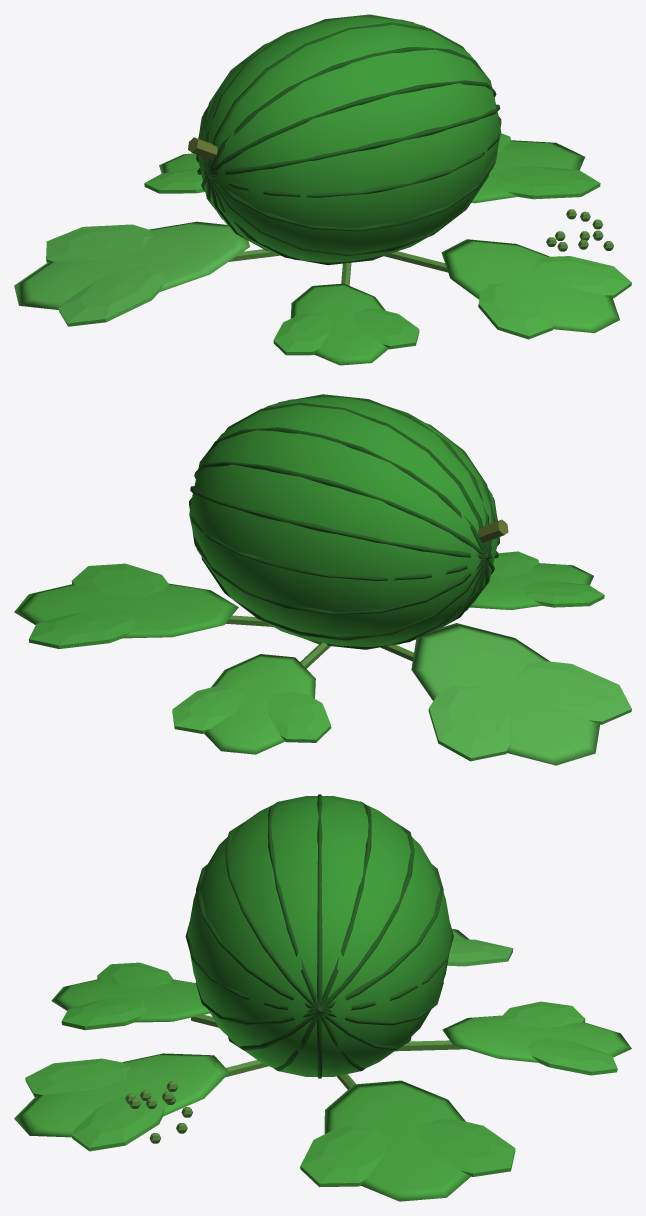
File: Planta_Watermelon.fbx
3 renders of one model, top to bottom at view 1: azimuth 30°, elevation 25°; view 2: azimuth 150°, elevation 25°; view 3: azimuth 270°, elevation 25°, orthographic. The views are drawn at different scales.
Visible parts, largest first — view 1: Produto_Watermelon, Corpo_Watermelon; view 2: Produto_Watermelon, Corpo_Watermelon; view 3: Produto_Watermelon, Corpo_Watermelon.
Part boxes in pixels (x1,y1,x2,y2): Produto_Watermelon: [196, 14, 501, 264]; Corpo_Watermelon: [14, 133, 631, 365]; Produto_Watermelon: [189, 394, 499, 649]; Corpo_Watermelon: [14, 519, 631, 765]; Produto_Watermelon: [185, 794, 453, 1078]; Corpo_Watermelon: [14, 929, 631, 1201].
Size of the model in its own units: 4.78 by 1.94 by 4.19.
1 material, 1 textured.
